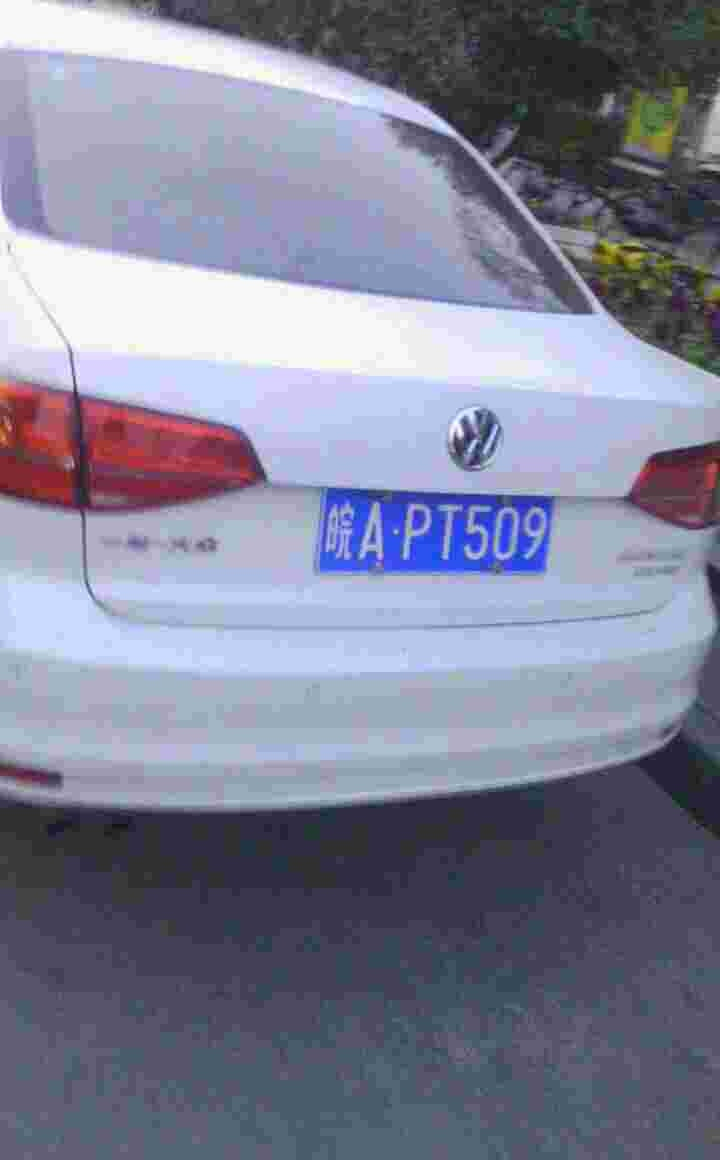plate: (322, 484, 565, 579)
